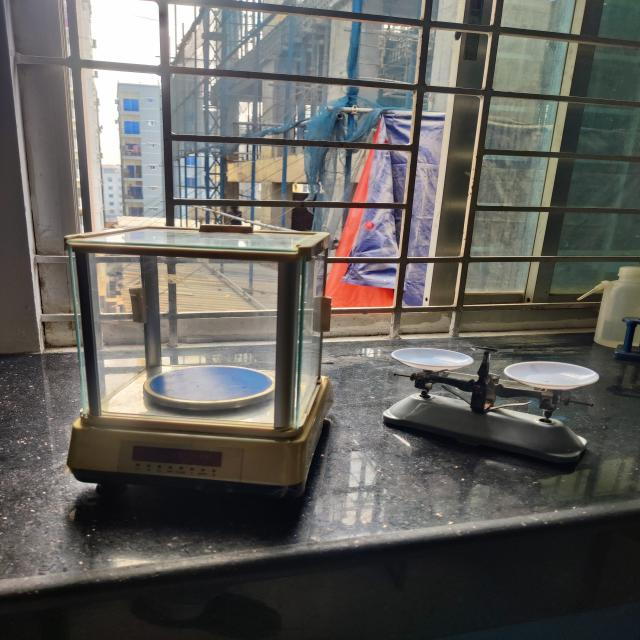Mechanical_Balance_Scale: (368, 324, 610, 488)
Precision_Weight_Scale: (32, 207, 354, 537)
